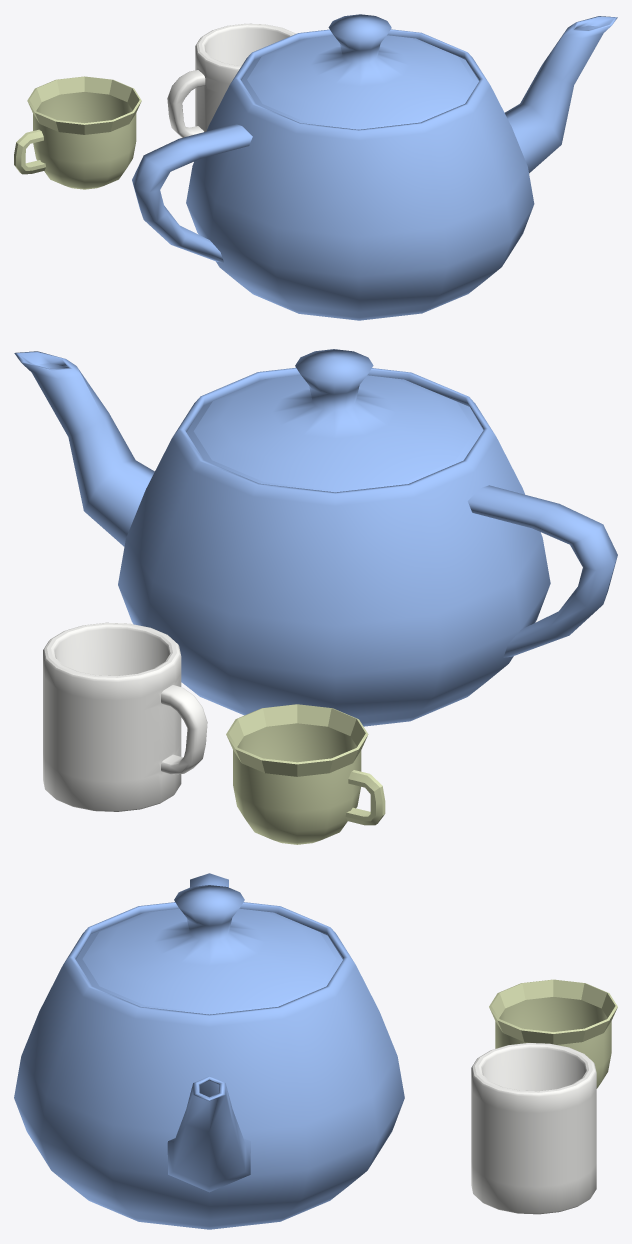
The model's file is Cocina_JuegoTé_19.fbx.
3 renders of one model, top to bottom at view 1: azimuth 30°, elevation 25°; view 2: azimuth 150°, elevation 25°; view 3: azimuth 270°, elevation 25°, orthographic. The views are drawn at different scales.
Visible parts, largest first — view 1: tetera, tacita te, taza; view 2: tetera, taza, tacita te; view 3: tetera, taza, tacita te.
Boxes of the visible parts, bbox=[...] form: tetera: bbox=[132, 14, 617, 320]; tacita te: bbox=[14, 76, 141, 189]; taza: bbox=[167, 23, 295, 137]; tetera: bbox=[14, 349, 617, 726]; taza: bbox=[43, 622, 207, 811]; tacita te: bbox=[226, 704, 385, 844]; tetera: bbox=[14, 873, 404, 1229]; taza: bbox=[471, 1043, 596, 1214]; tacita te: bbox=[489, 979, 617, 1088].
Size of the model in its own units: 59.9 by 29.99 by 57.58.
3 materials, 3 textured.
